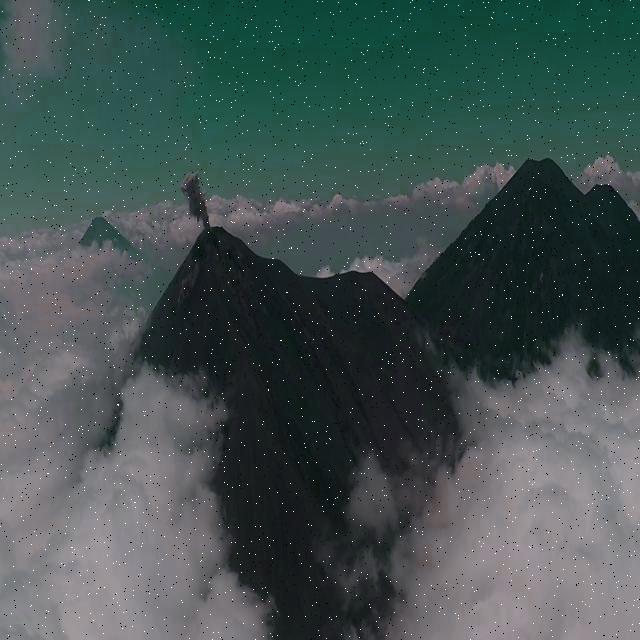Plume: (180, 170, 212, 232)
Summit: (148, 222, 294, 310)
